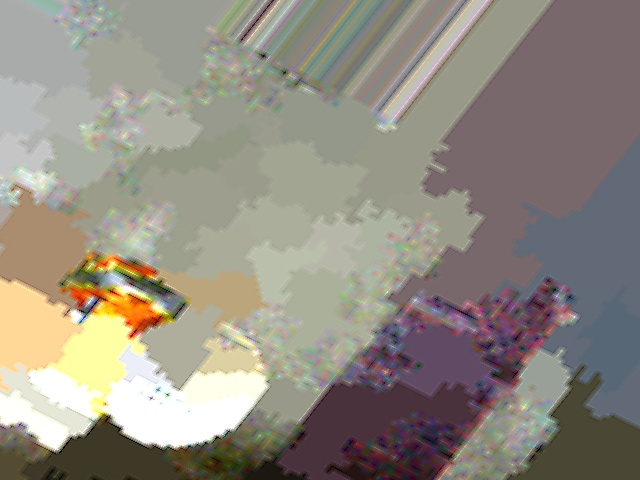eight: (127, 362, 209, 428)
